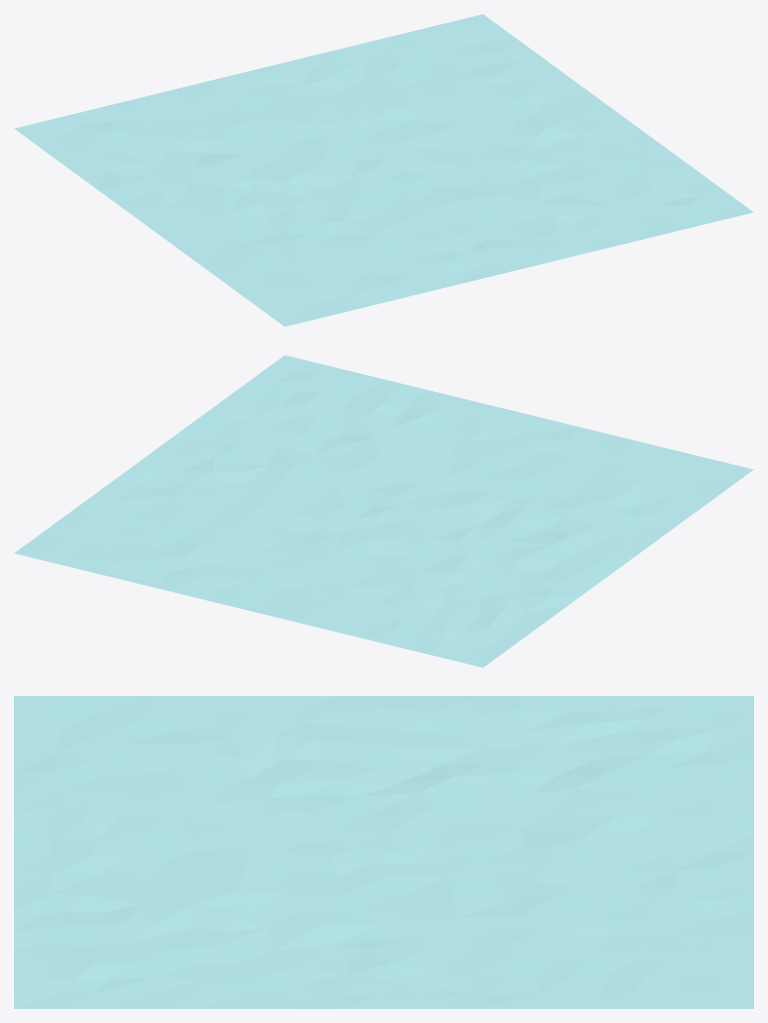
File: Water_M_b_01.fbx
3 renders of one model, top to bottom at view 1: azimuth 30°, elevation 25°; view 2: azimuth 150°, elevation 25°; view 3: azimuth 270°, elevation 25°, orthographic. The views are drawn at different scales.
Parts seen in each view (by area): view 1: Water_M_b_01; view 2: Water_M_b_01; view 3: Water_M_b_01.
Part boxes in pixels (bbox=[...]): Water_M_b_01: bbox=[14, 14, 753, 326]; Water_M_b_01: bbox=[14, 355, 753, 667]; Water_M_b_01: bbox=[14, 696, 753, 1008].
Bounding box in the file's own units: 5000 × 20 × 5000.
